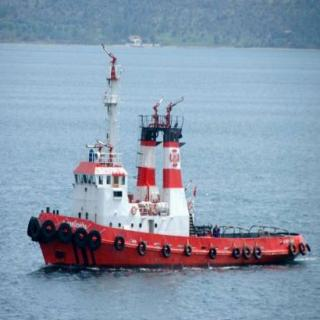Tug Boat: (23, 70, 314, 268)
